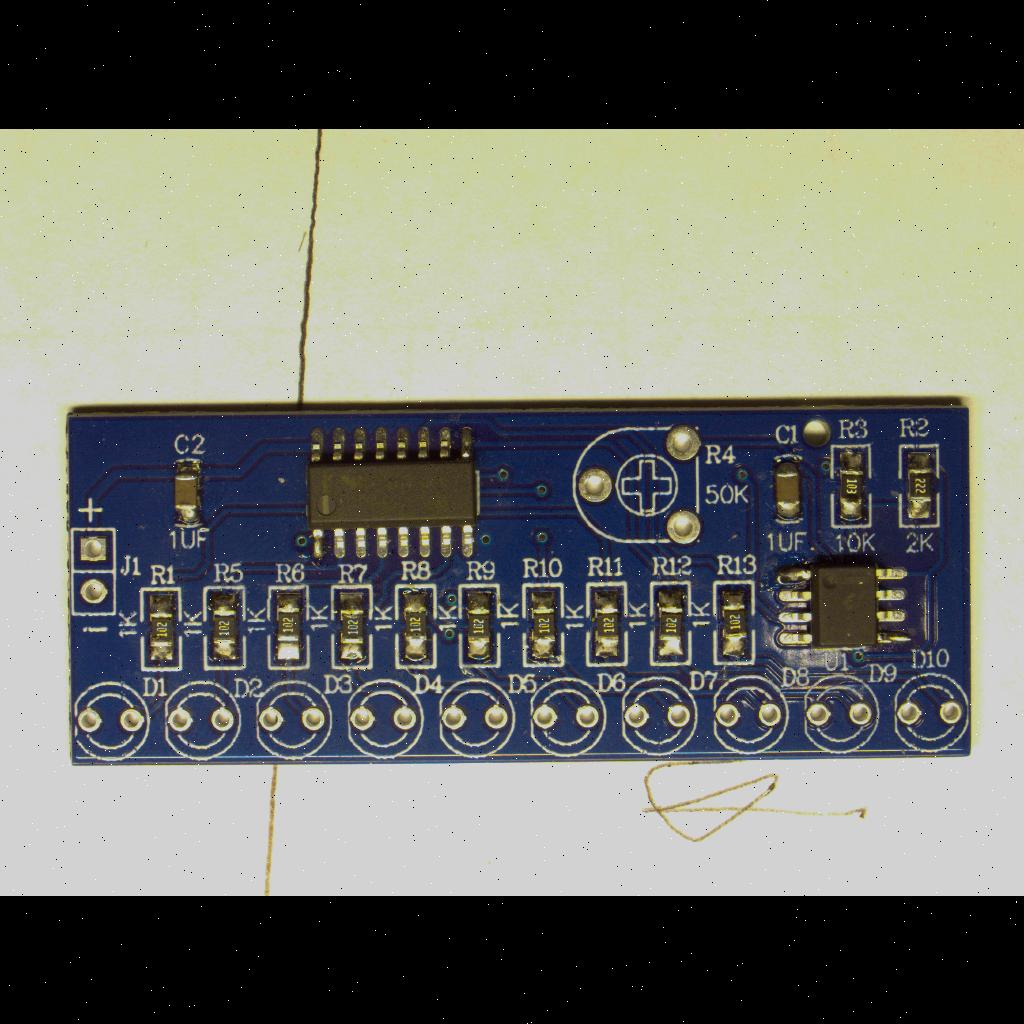OK: (298, 418, 488, 566), (768, 554, 920, 656), (646, 578, 696, 670), (896, 440, 944, 532), (827, 440, 875, 532), (264, 582, 312, 674), (710, 577, 758, 669), (390, 582, 440, 670), (138, 583, 186, 673), (520, 580, 568, 670), (202, 582, 248, 674), (584, 579, 630, 669), (330, 582, 376, 672), (456, 582, 502, 670), (770, 448, 808, 524), (171, 456, 207, 530)
